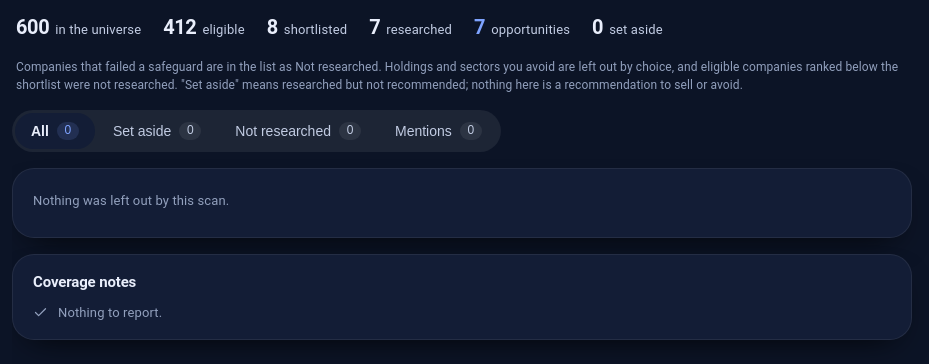
Test case: ScanResults › says nothing was set aside only when the scan recorded a zero
The width and height of the screenshot is (929, 364).
Click the button "Set aside 0" at (157, 131), box [97, 113, 217, 149]
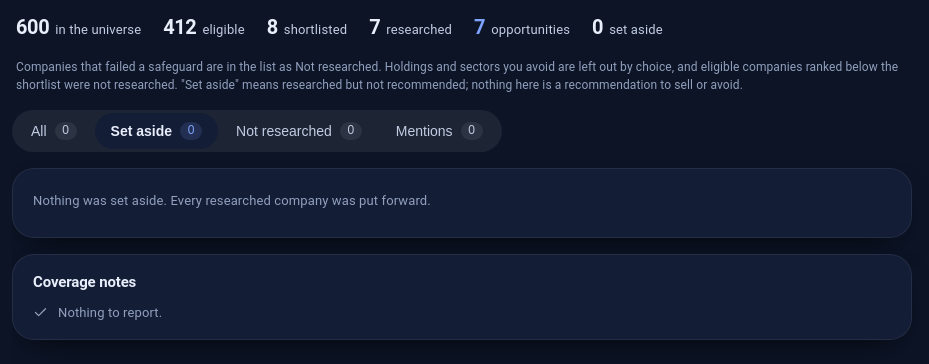
Now the text "Nothing was set aside. Every researched company was put forward." is shown, box [33, 193, 431, 208]
